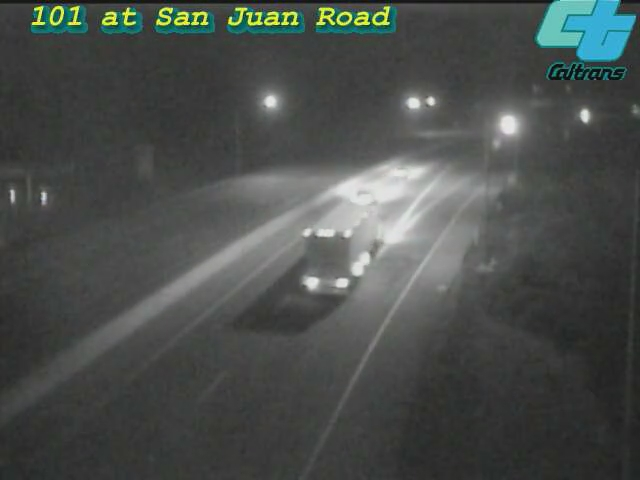vehicle: (358, 134, 438, 214), (327, 156, 407, 236), (296, 209, 376, 289), (483, 100, 533, 150), (555, 92, 605, 142)
